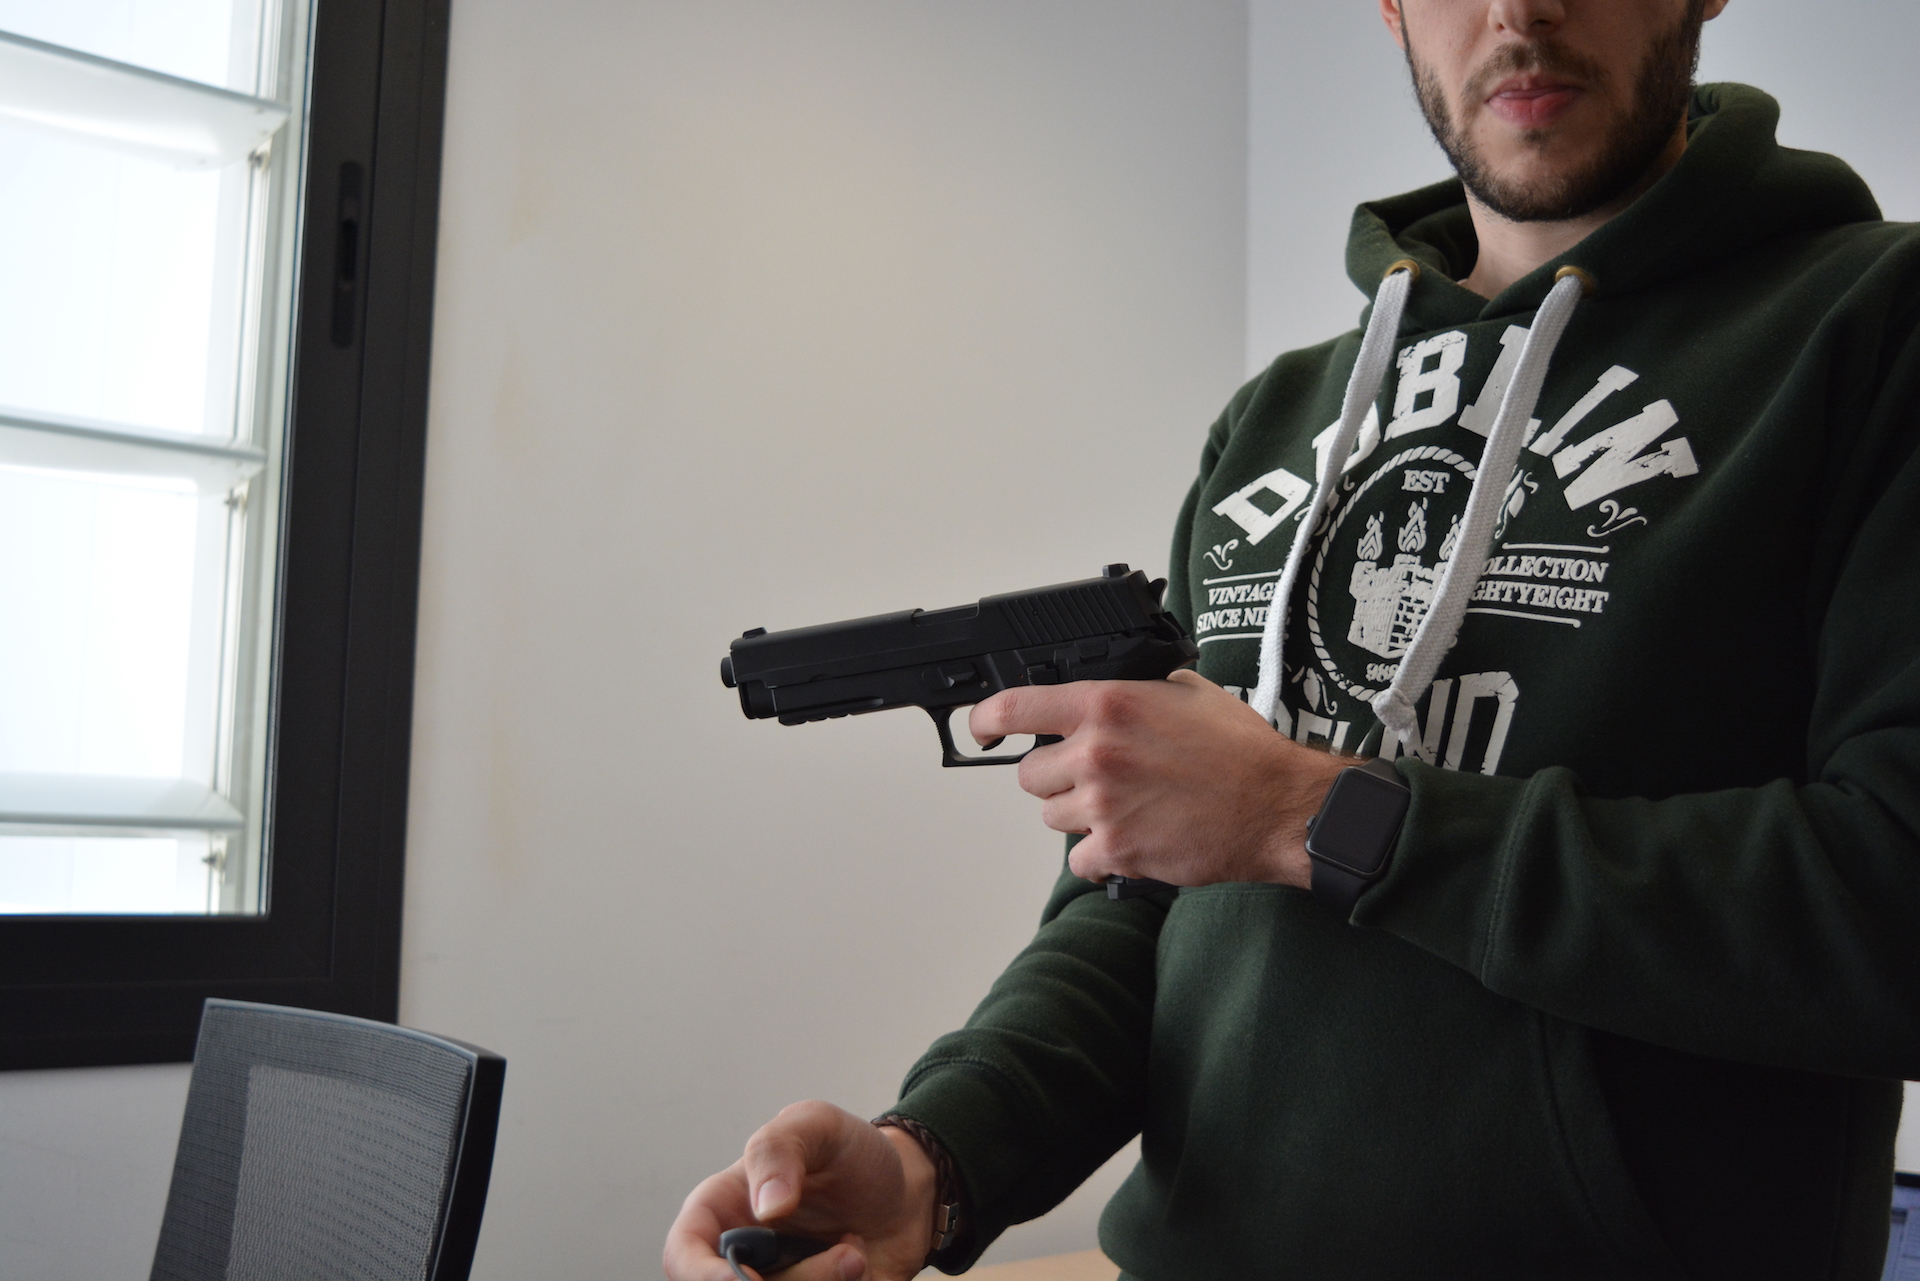pistol: (718, 560, 1204, 905)
